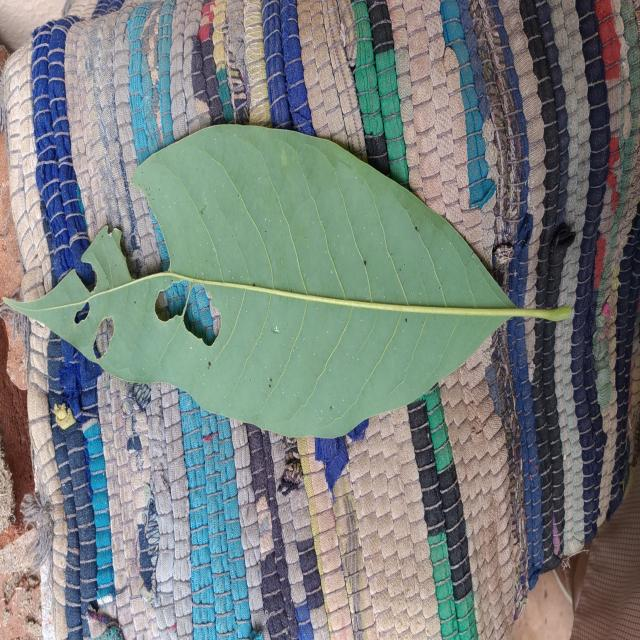coffee: (18, 124, 518, 438)
